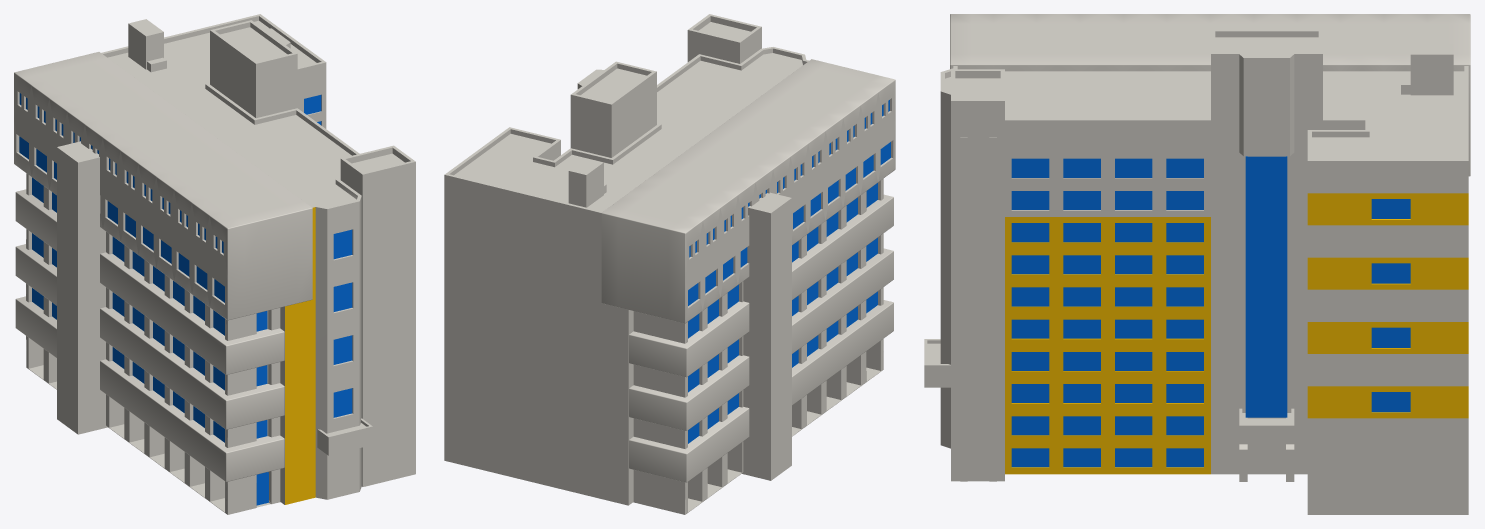
The model's file is 제2과학기술관.fbx.
3 renders of one model, left to right at view 1: azimuth 30°, elevation 25°; view 2: azimuth 150°, elevation 25°; view 3: azimuth 270°, elevation 25°, orthographic. The views are drawn at different scales.
Visible parts, largest first — view 1: 제2과학기술관, Cube_147, Cube_148, Cube_149, Cube_150, Cube_152, Cube_151, Cube_153, Cube_155, Cube_28, Cube_8, Cube_154; view 2: 제2과학기술관, Cube_147, Cube_148, Cube_149, Cube_152, Cube_151, Cube_150, Cube_153, Cube_155, Cube_8; view 3: 제2과학기술관, Cube_29, Cube_147, Cube_113, Cube_31, Cube_8.
Boxes of the visible parts, x1,y1,x2,y2 form: 제2과학기술관: (101,14,415,504); Cube_147: (14,52,312,320); Cube_148: (26,173,280,514); Cube_149: (57,141,107,434); Cube_150: (15,189,284,374); Cube_152: (15,296,284,481); Cube_151: (15,244,284,429); Cube_153: (32,177,224,442); Cube_155: (19,93,224,302); Cube_28: (333,229,352,417); Cube_8: (128,19,163,69); Cube_154: (256,311,268,505); 제2과학기술관: (444,14,808,505); Cube_147: (601,59,895,323); Cube_148: (633,178,883,514); Cube_149: (742,192,791,480); Cube_152: (629,300,893,482); Cube_151: (629,248,893,430); Cube_150: (629,194,893,377); Cube_153: (688,183,877,443); Cube_155: (688,100,890,305); Cube_8: (568,158,603,207); 제2과학기술관: (924,29,1468,514); Cube_29: (1011,158,1203,467); Cube_147: (950,14,1470,176); Cube_113: (1245,156,1287,417); Cube_31: (1371,199,1410,412); Cube_8: (1410,44,1453,95).
Size of the model in its own units: 608 by 754 by 883.
